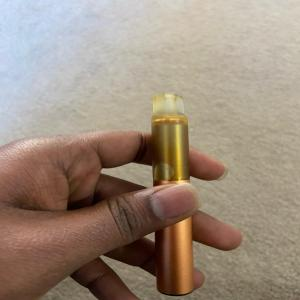Golden-E-Ciggirate: (145, 85, 207, 296)
